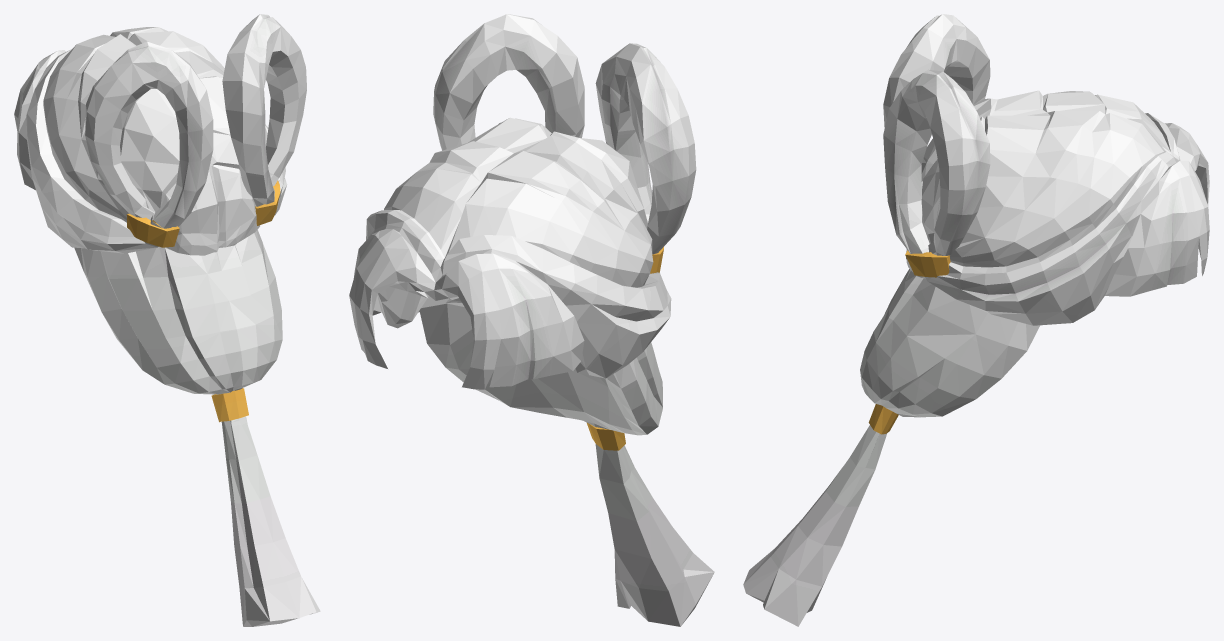
Rendered from CharSkyKid_Hair_MoonlightUpdo.glb.
The picture shows the model from 3 angles, left to right: view 1: azimuth 30°, elevation 25°; view 2: azimuth 150°, elevation 25°; view 3: azimuth 270°, elevation 25°; orthographic projection. The views are drawn at different scales.
Visible parts, largest first — view 1: CharSkyKid_Hair_MoonlightUpdo; view 2: CharSkyKid_Hair_MoonlightUpdo; view 3: CharSkyKid_Hair_MoonlightUpdo.
Part boxes in pixels (x1,y1,x2,y2): CharSkyKid_Hair_MoonlightUpdo: [14, 14, 320, 626]; CharSkyKid_Hair_MoonlightUpdo: [349, 14, 714, 626]; CharSkyKid_Hair_MoonlightUpdo: [743, 14, 1209, 626].
Size of the model in its own units: 2.95 by 6.79 by 5.06.
Materials: 1 (1 with a texture image).
